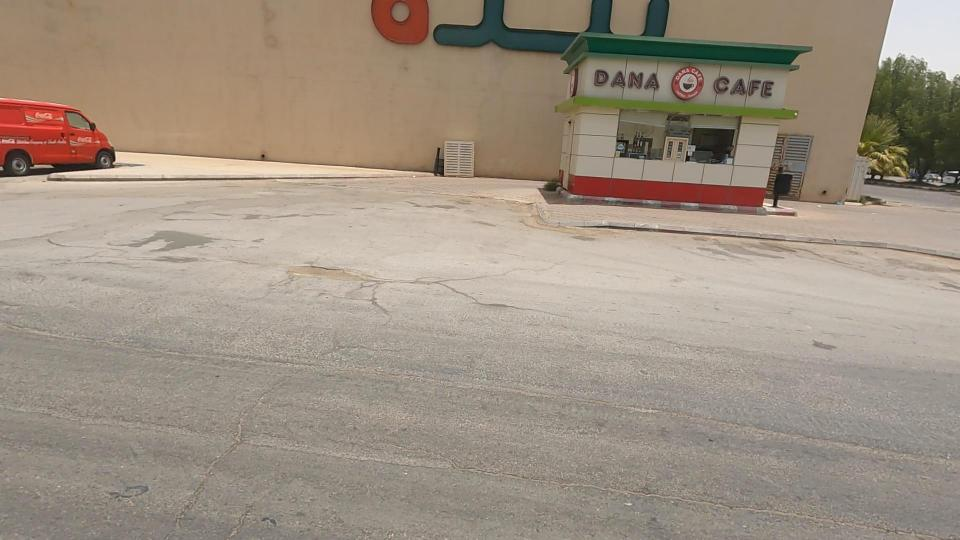POTHOLES: (216, 208, 433, 344)
